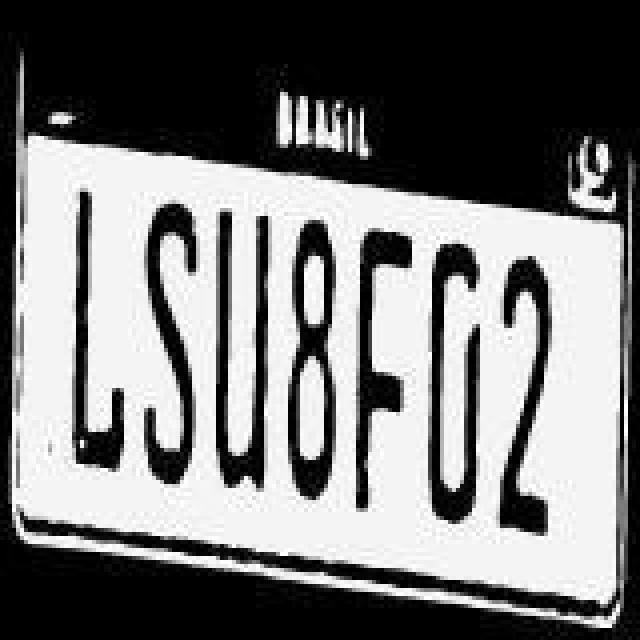2: (492, 248, 564, 544)
8: (284, 220, 340, 500)
D: (424, 240, 488, 528)
F: (346, 222, 414, 514)
L: (66, 182, 126, 474)
S: (136, 202, 200, 486)
U: (210, 206, 270, 498)
